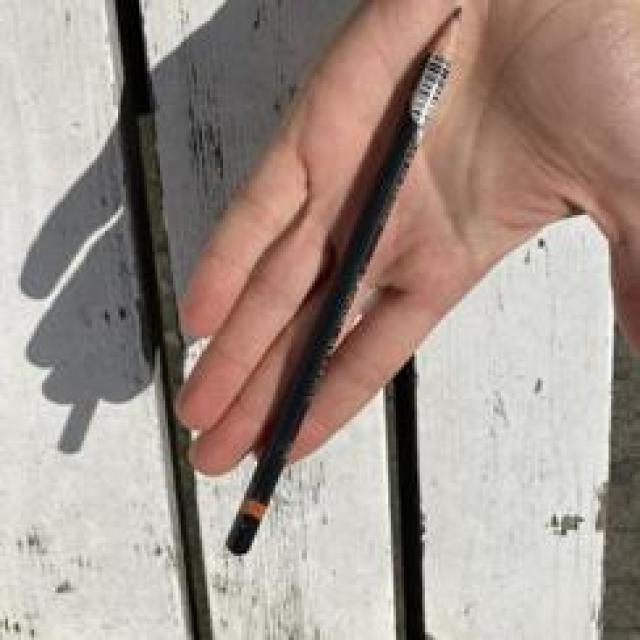pencil: (215, 0, 491, 571)
